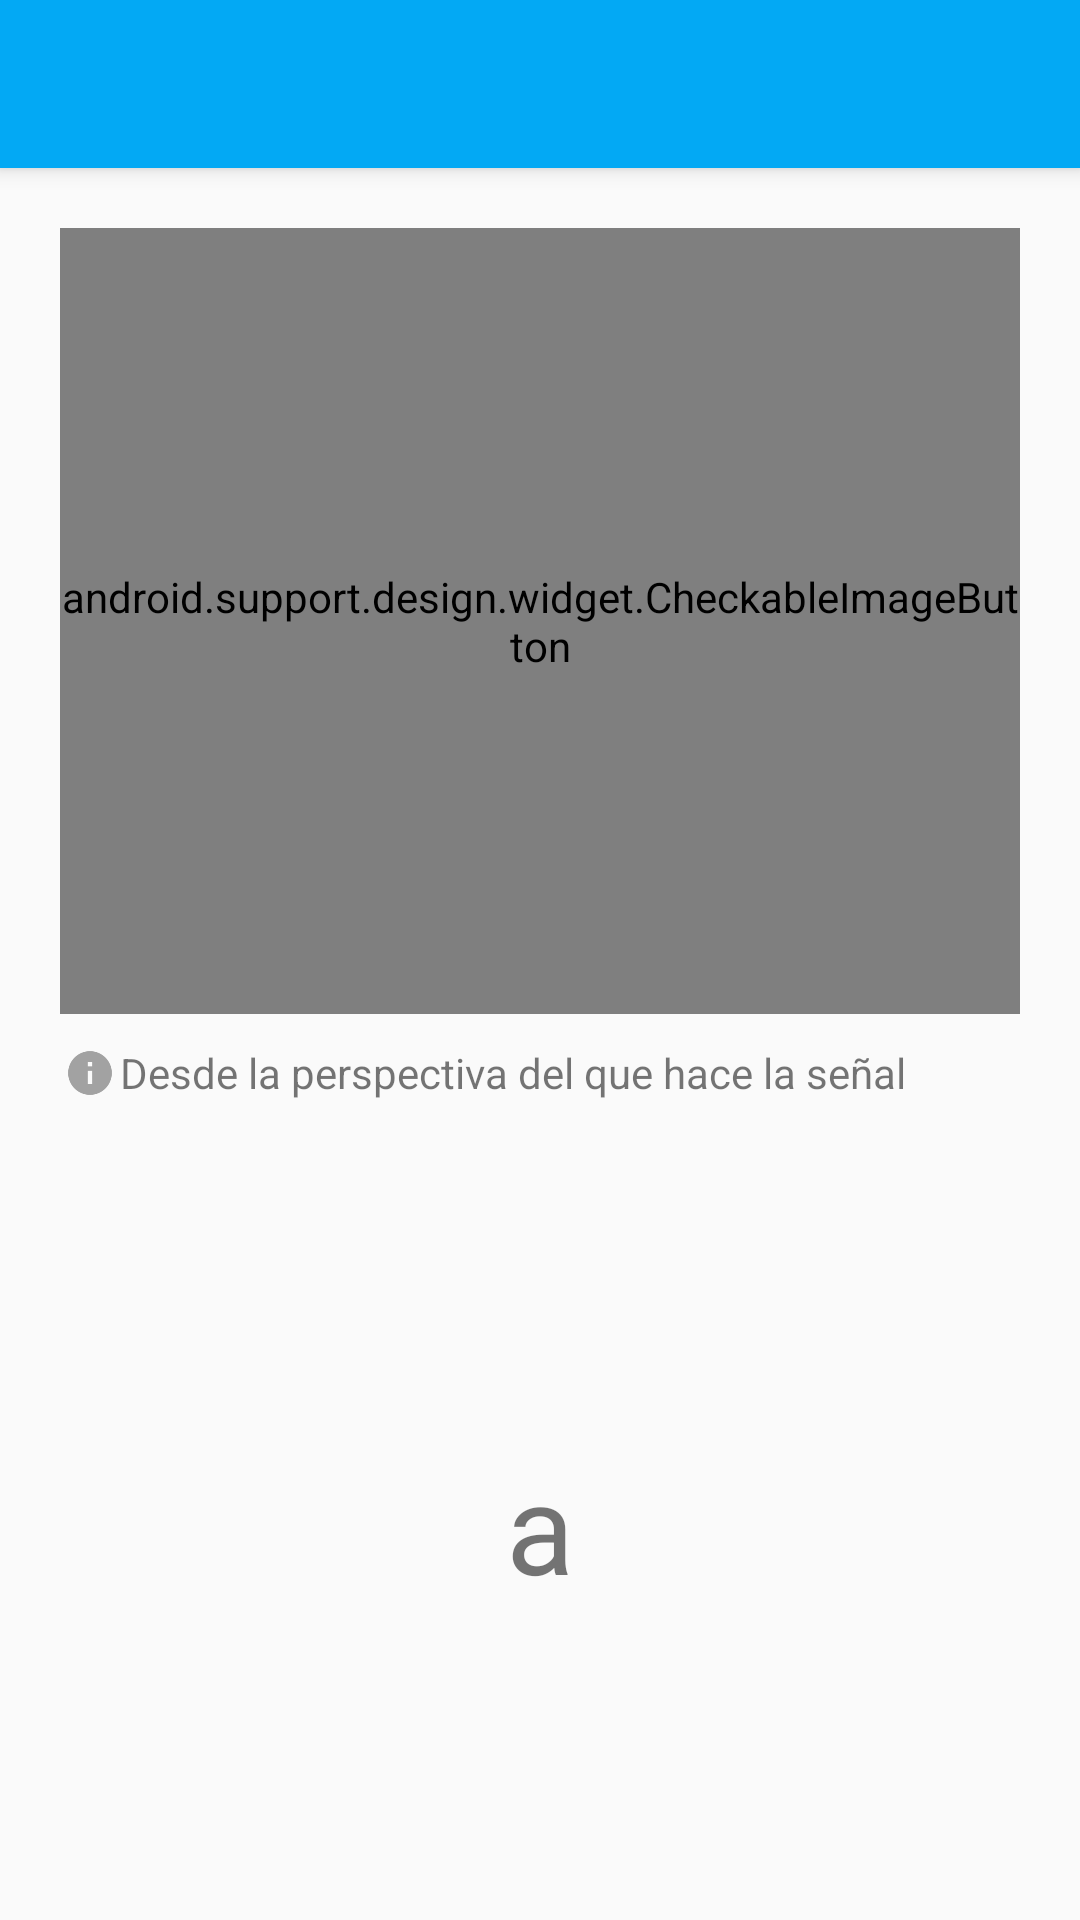

Icons on this 1080 × 1920 Android screen, each with its box as box=[x1, y1, x2, y2]:
info: box=[68, 1051, 112, 1095]
